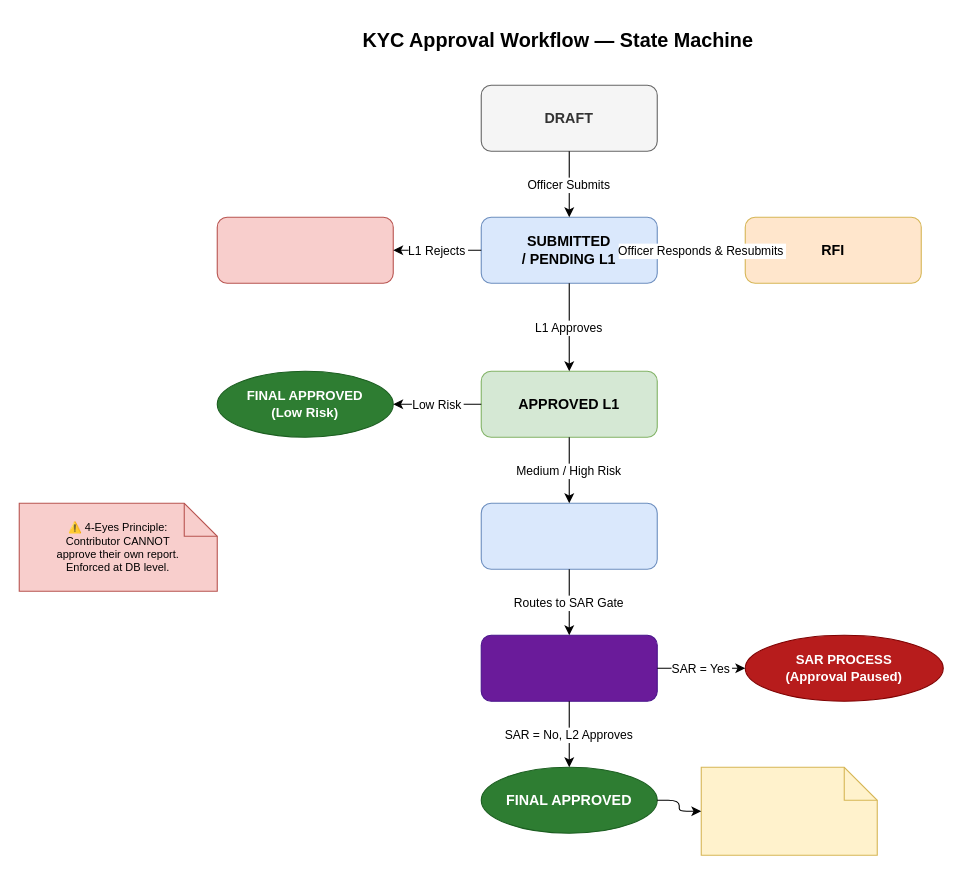
Some shapes in this 963 by 875 pixel diagram are drawn without their labels. Here are the shapes that lost their labels. From the top down, the centre of each, then its label:
(x=304, y=249): REJECTED
(x=568, y=535): PENDING L2 / MLRO
(x=568, y=667): SAR GATE (Mandatory)
(x=788, y=810): Auto-generate PDF Notify Requestor Set Review Date Seal Record
